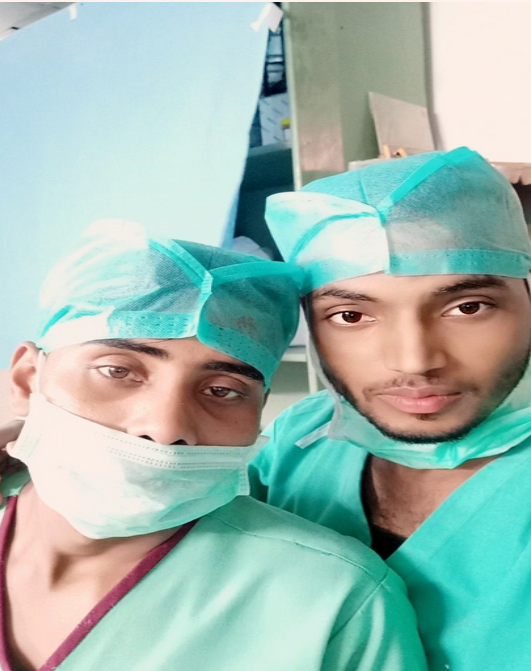mask_weared_incorrect: (19, 216, 302, 543), (271, 151, 530, 449)
